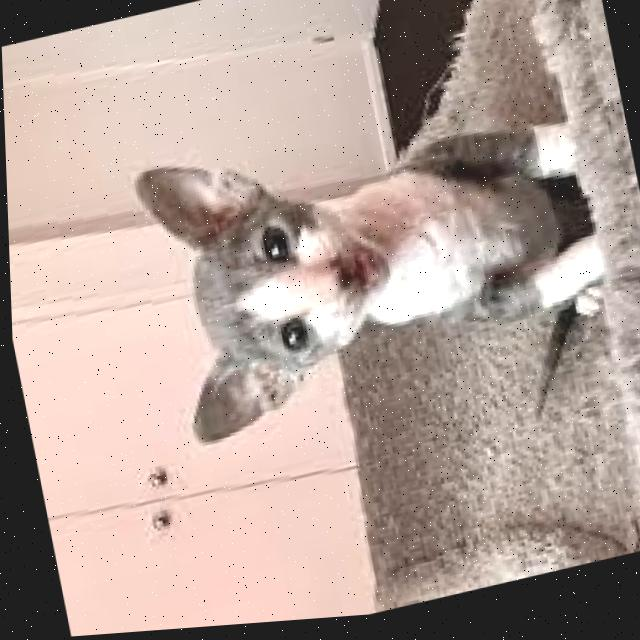Cornish Rex: (118, 73, 637, 505)
